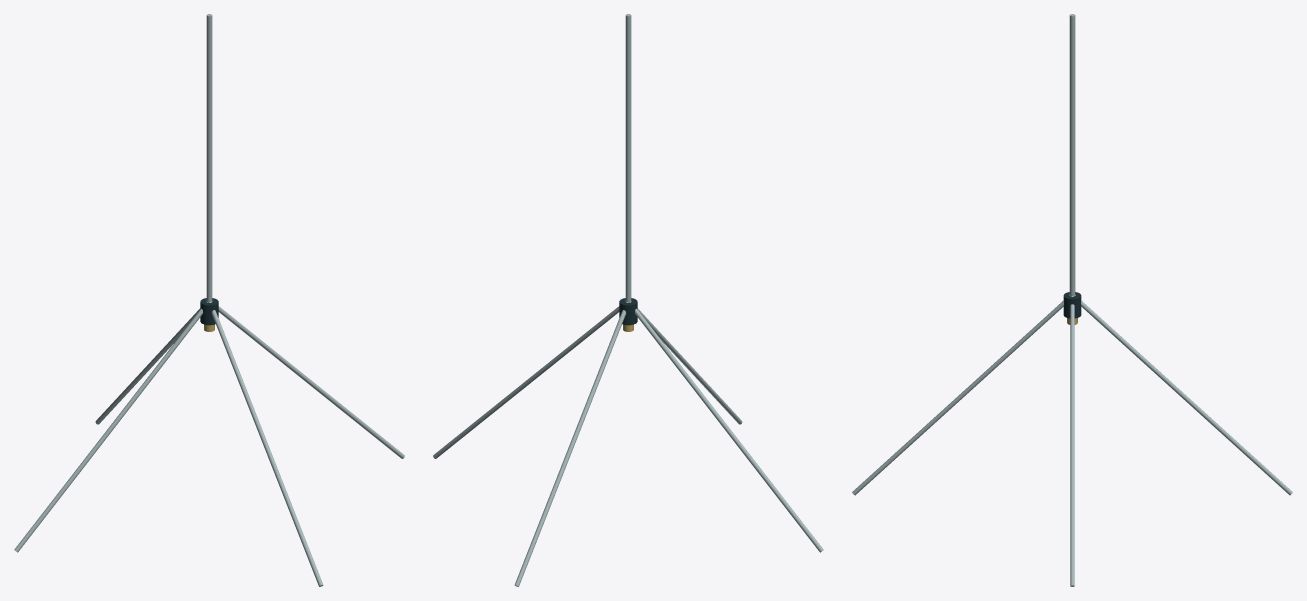
Rendered from RX-01-antenna-433MHz.glb.
3 views of the same model, side by side, from view 1: azimuth 30°, elevation 25°; view 2: azimuth 150°, elevation 25°; view 3: azimuth 270°, elevation 25° (orthographic). The views are drawn at different scales.
Visible parts, largest first — view 1: RX-01_433MHz_antenna_mm; view 2: RX-01_433MHz_antenna_mm; view 3: RX-01_433MHz_antenna_mm.
Part boxes in pixels (x1,y1,x2,y2): RX-01_433MHz_antenna_mm: [14, 14, 404, 586]; RX-01_433MHz_antenna_mm: [433, 14, 823, 586]; RX-01_433MHz_antenna_mm: [852, 14, 1292, 586].
Bounding box in the file's own units: 0.2466 × 0.2964 × 0.2466.
